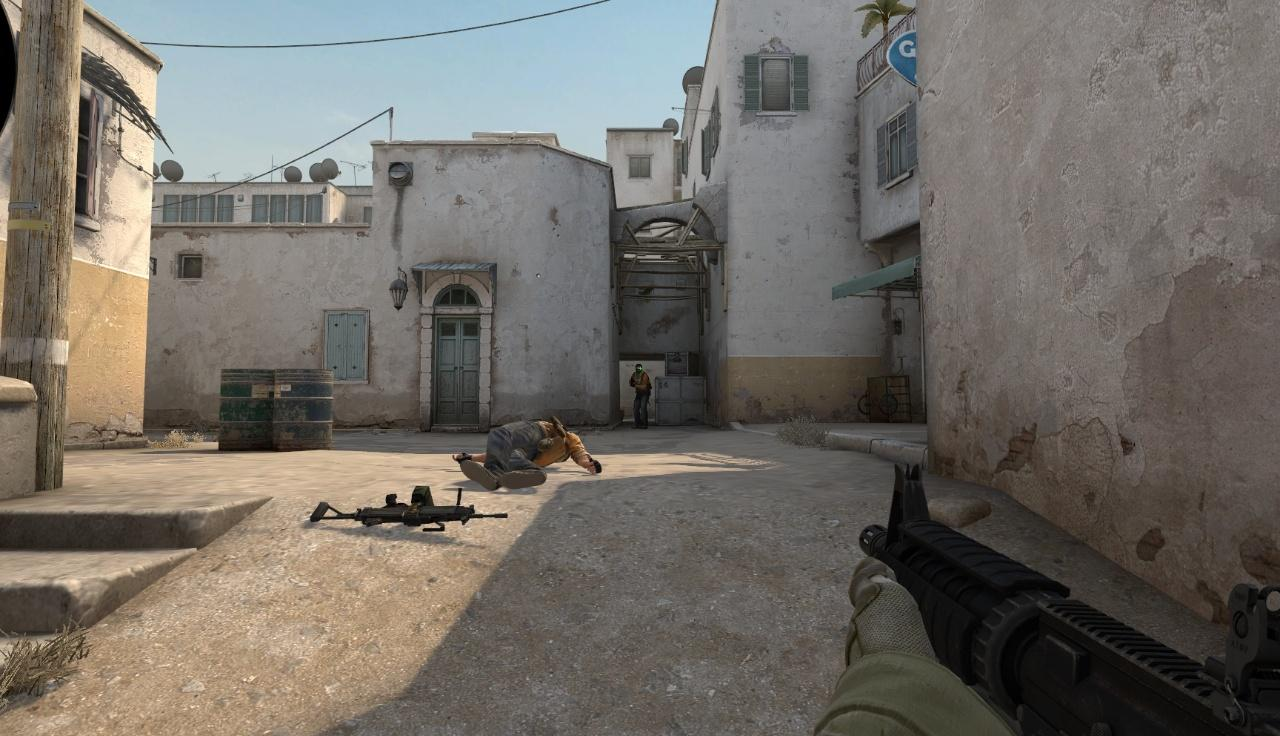rifle: (814, 464, 1280, 736)
tt: (629, 364, 652, 429)
tthead: (635, 364, 642, 373)
